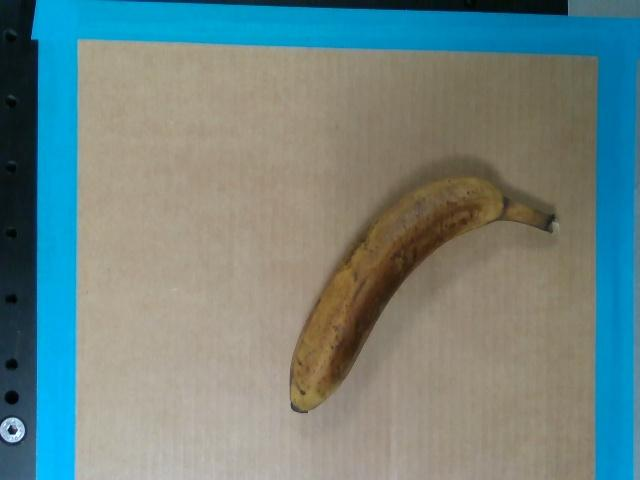banana: (289, 172, 561, 414)
